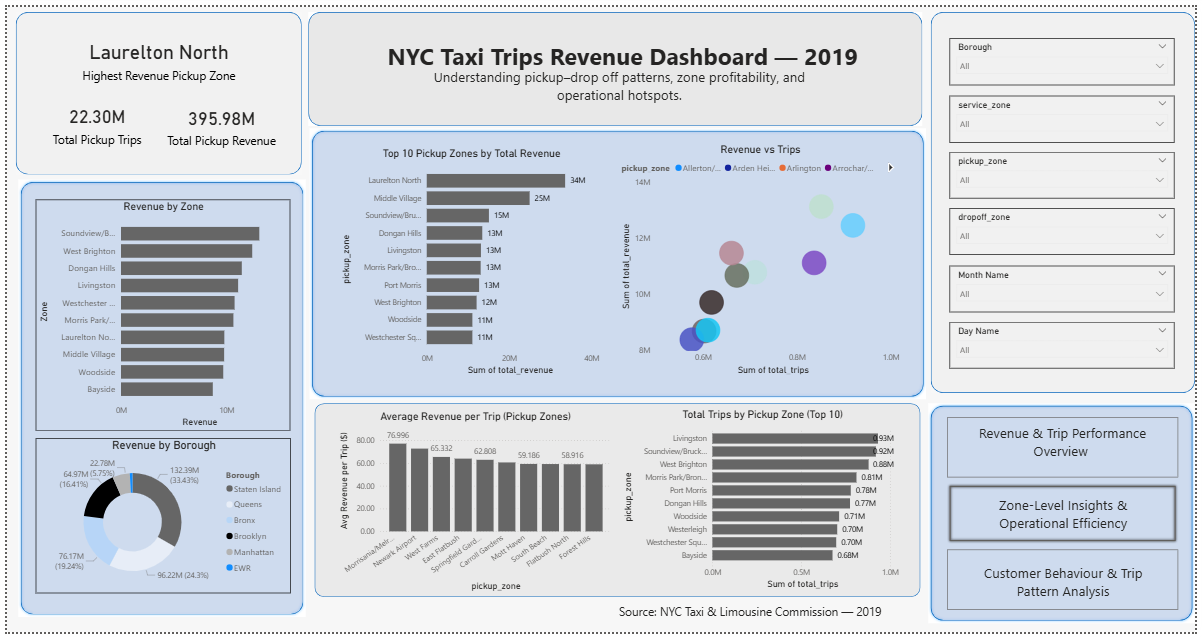

The dashboard page shown, as its layout file describes it:
{"tool":"powerbi","page":{"name":"Zone-Level Insights & Operational Efficiency","canvas":[1900,1000],"ordinal":1},"visuals":[{"type":"shape","box":[1473.3,633.3,426.7,351.7],"z":0},{"type":"actionButton","box":[1503.3,868.3,370,96.7],"z":1000},{"type":"textbox","box":[1540,885,300,80],"z":2000},{"type":"actionButton","box":[1503.3,761.7,370,96.7],"z":3000},{"type":"textbox","box":[1536.7,661.7,300,90],"z":4000},{"type":"actionButton","box":[1503.3,655,370,96.7],"z":5000},{"type":"shape","box":[1477.1,8.7,422.9,609.5],"z":6000},{"type":"shape","box":[14.3,7.8,457.5,260],"z":7000},{"type":"card","fields":{"Values":["DROPOFF_ZONE_SUMMARY_1.Highest Revenue Pickup Zone"]},"box":[38.3,26.7,410,113.3],"z":8000},{"type":"shape","box":[483.3,193.3,986.7,433.3],"z":9000},{"type":"card","fields":{"Values":["DROPOFF_ZONE_SUMMARY_1.Total Pickup Trips"]},"box":[42.2,131,205,112.5],"z":10000},{"type":"shape","box":[17.5,275,460,700],"z":11000},{"type":"card","fields":{"Values":["DROPOFF_ZONE_SUMMARY_1.Total Pickup Revenue"]},"box":[240.2,131.9,206.6,113.4],"z":12000},{"type":"shape","box":[492.4,633.3,969.5,310.2],"z":13000},{"type":"clusteredBarChart","title":"Revenue by Zone","fields":{"Category":["dropoff_revenue_summary1.Zone"],"Y":["Sum(dropoff_revenue_summary1.total_revenue)"]},"box":[45,307.5,407.5,370],"z":14000},{"type":"scatterChart","title":"Revenue vs Trips","fields":{"X":["Sum(dropoff_revenue_summary1.total_trips)"],"Y":["Sum(dropoff_revenue_summary1.total_revenue)"],"Size":["DROPOFF_ZONE_SUMMARY_1.Avg Revenue Per Trip"],"Series":["pickup_zone_summary.pickup_zone"]},"box":[977.2,217.5,455,375],"z":15000},{"type":"clusteredColumnChart","title":"Average Revenue per Trip (Pickup Zones)","fields":{"Category":["pickup_zone_summary.pickup_zone"],"Y":["Avg(pickup_zone_summary.avg_revenue_per_trip)"]},"box":[526.7,643.3,446.7,295],"z":16000},{"type":"clusteredBarChart","title":"Top 10 Pickup Zones by Total Revenue","fields":{"Category":["pickup_zone_summary.pickup_zone"],"Y":["Sum(pickup_zone_summary.total_revenue)"]},"box":[530.6,223.3,426.7,370],"z":17000},{"type":"clusteredBarChart","title":"Total Trips by Pickup Zone (Top 10)","fields":{"Y":["Sum(pickup_zone_summary.total_trips)"],"Category":["pickup_zone_summary.pickup_zone"]},"box":[980,642.5,457.5,295],"z":18000},{"type":"shape","box":[481.5,8.7,982.5,182.2],"z":19000},{"type":"slicer","fields":{"Values":["pickup_zone_summary.pickup_zone"]},"box":[1507.8,232.5,360,74],"z":20000},{"type":"slicer","fields":{"Values":["DROPOFF_ZONE_SUMMARY_1.dropoff_zone"]},"box":[1507.8,322.8,360,74],"z":21000},{"type":"textbox","box":[510,48.3,940,61.7],"z":22000,"group":"g1"},{"type":"textbox","box":[916,950,546,50],"z":22000},{"type":"slicer","fields":{"Values":["Date.Month Name"]},"box":[1507.8,413.1,360,74],"z":23000},{"type":"slicer","fields":{"Values":["Date.Day Name"]},"box":[1507.8,503.3,360,74],"z":24000},{"type":"textbox","box":[1540,776.7,300,81.7],"z":25000},{"type":"group","id":"g1","title":"Group 1","box":[510,48.3,940,118.3],"z":26000},{"type":"slicer","fields":{"Values":["taxi_zones.service_zone"]},"box":[1507.8,141.3,360,75],"z":27000},{"type":"slicer","fields":{"Values":["taxi_zones.Borough"]},"box":[1507.8,50,360,75],"z":28000},{"type":"donutChart","title":"Revenue by Borough","fields":{"Category":["dropoff_revenue_summary1.Borough"],"Y":["Sum(dropoff_revenue_summary1.total_revenue)"]},"box":[45,690,408.3,248.3],"z":29000},{"type":"textbox","box":[623.3,91.6,711.7,75],"z":30001,"group":"g1"}]}

Visuals, with their boxes in screenshot pixels (x1, y1, x2, y2), scaled from the page's 1900x1000 canvas onto the 1202x638 screenshot:
shape: x1=932 y1=404 x2=1201 y2=628
actionButton: x1=951 y1=554 x2=1185 y2=616
textbox: x1=974 y1=565 x2=1164 y2=616
actionButton: x1=951 y1=486 x2=1185 y2=548
textbox: x1=972 y1=422 x2=1162 y2=480
actionButton: x1=951 y1=418 x2=1185 y2=480
shape: x1=934 y1=6 x2=1201 y2=394
shape: x1=9 y1=5 x2=298 y2=171
card - DROPOFF_ZONE_SUMMARY_1.Highest Revenue Pickup Zone: x1=24 y1=17 x2=284 y2=89
shape: x1=306 y1=123 x2=930 y2=400
card - DROPOFF_ZONE_SUMMARY_1.Total Pickup Trips: x1=27 y1=84 x2=156 y2=155
shape: x1=11 y1=175 x2=302 y2=622
card - DROPOFF_ZONE_SUMMARY_1.Total Pickup Revenue: x1=152 y1=84 x2=283 y2=157
shape: x1=312 y1=404 x2=925 y2=602
"Revenue by Zone" clusteredBarChart: x1=28 y1=196 x2=286 y2=432
"Revenue vs Trips" scatterChart: x1=618 y1=139 x2=906 y2=378
"Average Revenue per Trip (Pickup Zones)" clusteredColumnChart: x1=333 y1=410 x2=616 y2=599
"Top 10 Pickup Zones by Total Revenue" clusteredBarChart: x1=336 y1=142 x2=606 y2=379
"Total Trips by Pickup Zone (Top 10)" clusteredBarChart: x1=620 y1=410 x2=909 y2=598
shape: x1=305 y1=6 x2=926 y2=122
slicer - pickup_zone_summary.pickup_zone: x1=954 y1=148 x2=1182 y2=196
slicer - DROPOFF_ZONE_SUMMARY_1.dropoff_zone: x1=954 y1=206 x2=1182 y2=253
textbox: x1=323 y1=31 x2=917 y2=70
textbox: x1=579 y1=606 x2=925 y2=637
slicer - Date.Month Name: x1=954 y1=264 x2=1182 y2=311
slicer - Date.Day Name: x1=954 y1=321 x2=1182 y2=368
textbox: x1=974 y1=496 x2=1164 y2=548
"Group 1" group: x1=323 y1=31 x2=917 y2=106
slicer - taxi_zones.service_zone: x1=954 y1=90 x2=1182 y2=138
slicer - taxi_zones.Borough: x1=954 y1=32 x2=1182 y2=80
"Revenue by Borough" donutChart: x1=28 y1=440 x2=287 y2=599
textbox: x1=394 y1=58 x2=845 y2=106
